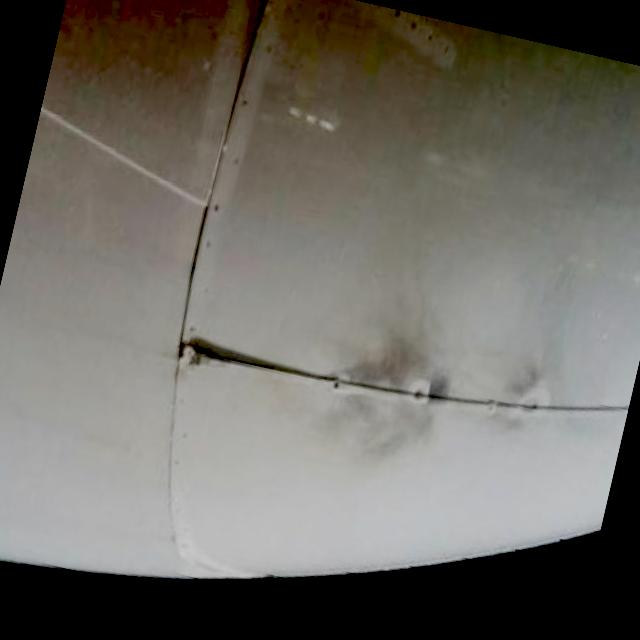crack: (181, 342, 328, 394)
